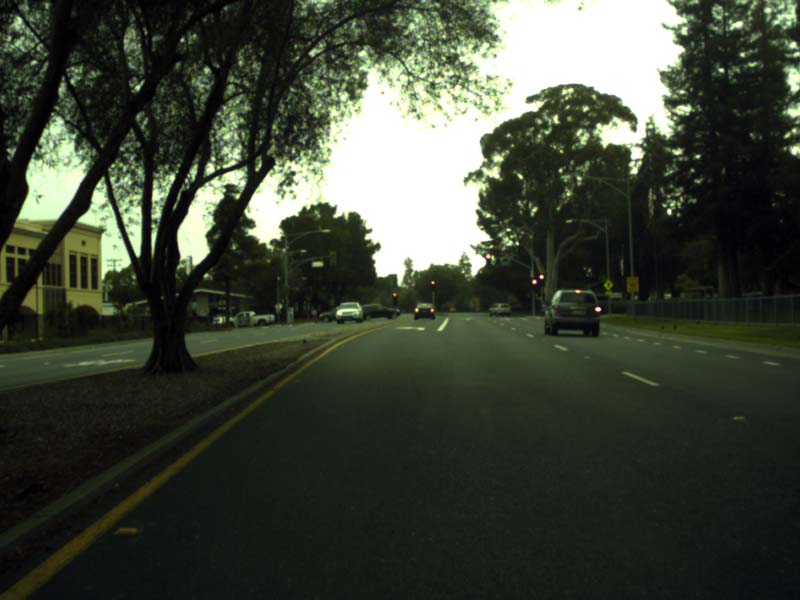Red: (538, 273, 545, 288), (391, 292, 398, 306), (531, 278, 537, 292), (486, 253, 491, 267), (430, 280, 435, 291)
